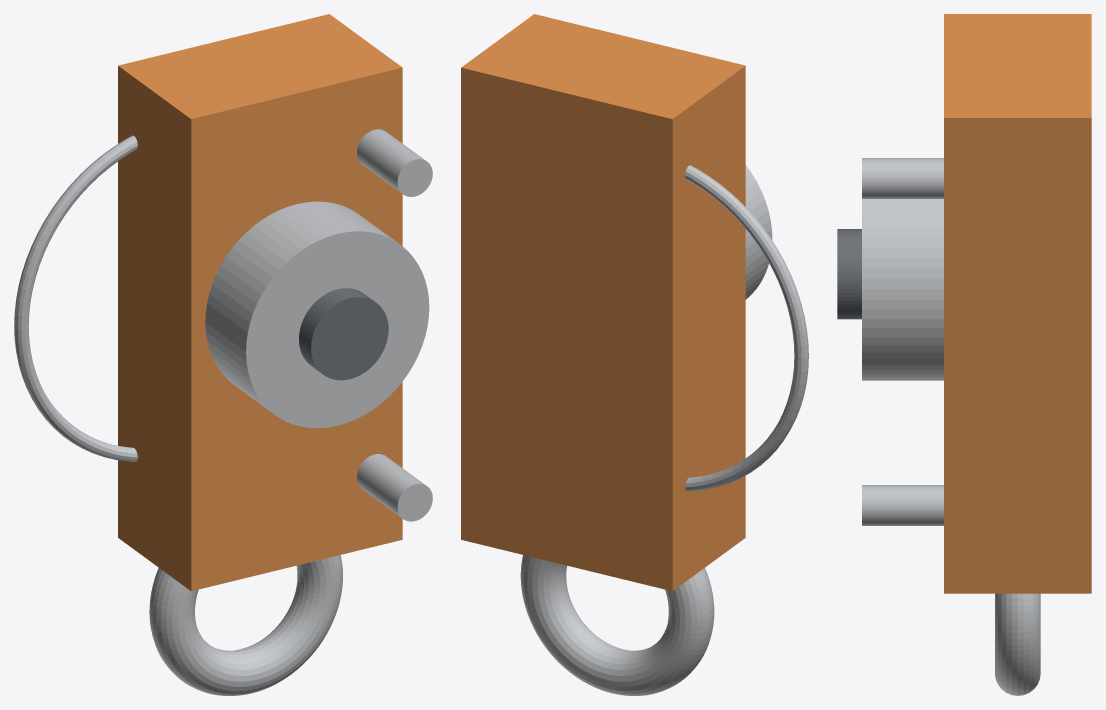
Rendered from rope_grab.glb.
3 renders of one model, left to right at view 1: azimuth 30°, elevation 25°; view 2: azimuth 150°, elevation 25°; view 3: azimuth 270°, elevation 25°, orthographic.
Parts seen in each view (by area): view 1: part_0, part_1, part_3, part_2, part_4, part_5, part_6; view 2: part_0, part_3, part_4, part_1; view 3: part_0, part_1, part_3, part_5, part_6, part_2.
Boxes of the visible parts, x1,y1,x2,y2 form: part_0: [118, 14, 402, 591]; part_1: [205, 201, 429, 428]; part_3: [149, 555, 342, 695]; part_2: [299, 288, 388, 380]; part_4: [14, 135, 137, 461]; part_5: [357, 454, 432, 521]; part_6: [357, 129, 432, 196]; part_0: [461, 14, 745, 591]; part_3: [520, 555, 714, 695]; part_4: [685, 165, 808, 491]; part_1: [745, 165, 772, 299]; part_0: [944, 14, 1091, 593]; part_1: [862, 199, 943, 380]; part_3: [995, 593, 1040, 695]; part_5: [862, 485, 943, 525]; part_6: [862, 158, 943, 198]; part_2: [837, 229, 861, 319].
Bounding box in the file's own units: 0.469 × 0.843 × 0.31.
